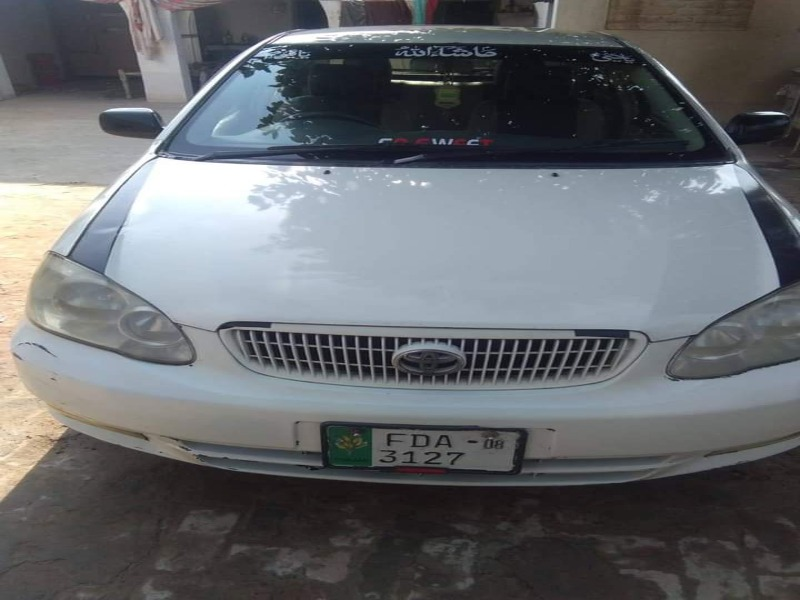License Plate: (316, 417, 528, 481)
